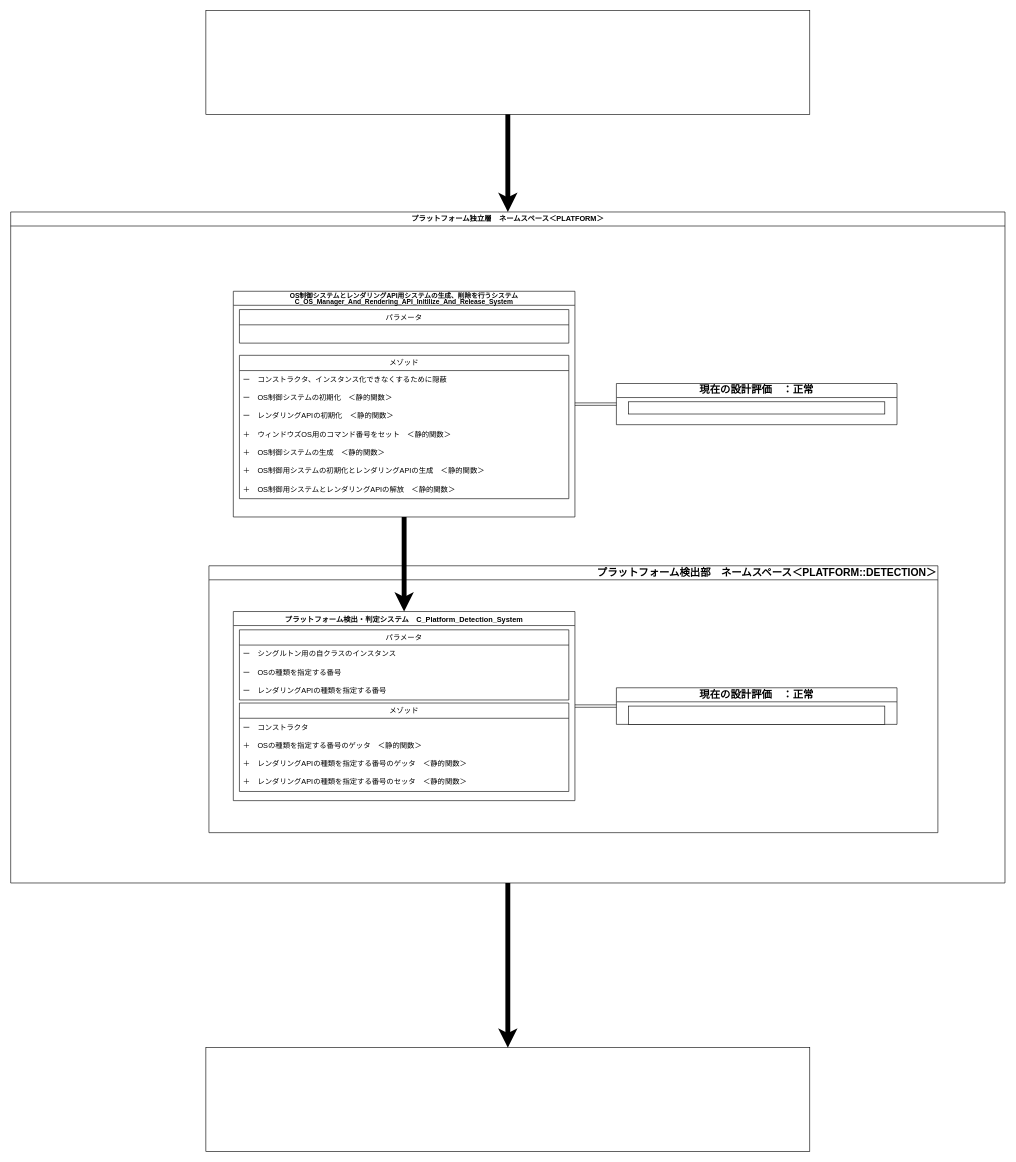
Some shapes in this 1016 by 1162 pixel diagram are drawn without their labels. The centre of each missing label's shape, as x and y in pixels:
"上位層" belongs at (507,62).
"下位層 プラットフォーム部 レンダリング部" belongs at (507,1099).
